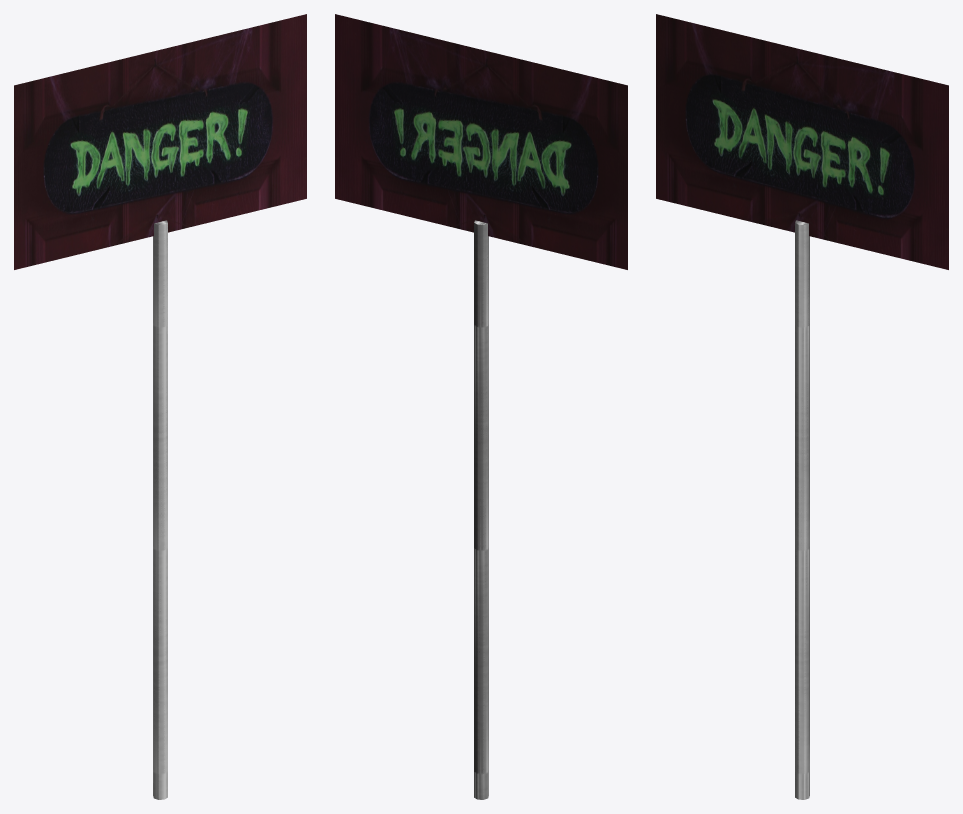
File: danger.gltf
3 renders of one model, left to right at view 1: azimuth 30°, elevation 25°; view 2: azimuth 150°, elevation 25°; view 3: azimuth 330°, elevation 25°, orthographic.
Visible parts, largest first — view 1: pCylinder6; view 2: pCylinder6; view 3: pCylinder6.
Part boxes in pixels (<box>): pCylinder6: <box>14,14,306,799</box>; pCylinder6: <box>335,14,627,799</box>; pCylinder6: <box>656,14,948,799</box>.
Bounding box in the file's own units: 0.1368 × 0.3333 × 0.00615.
Materials: 2 (2 with a texture image).
